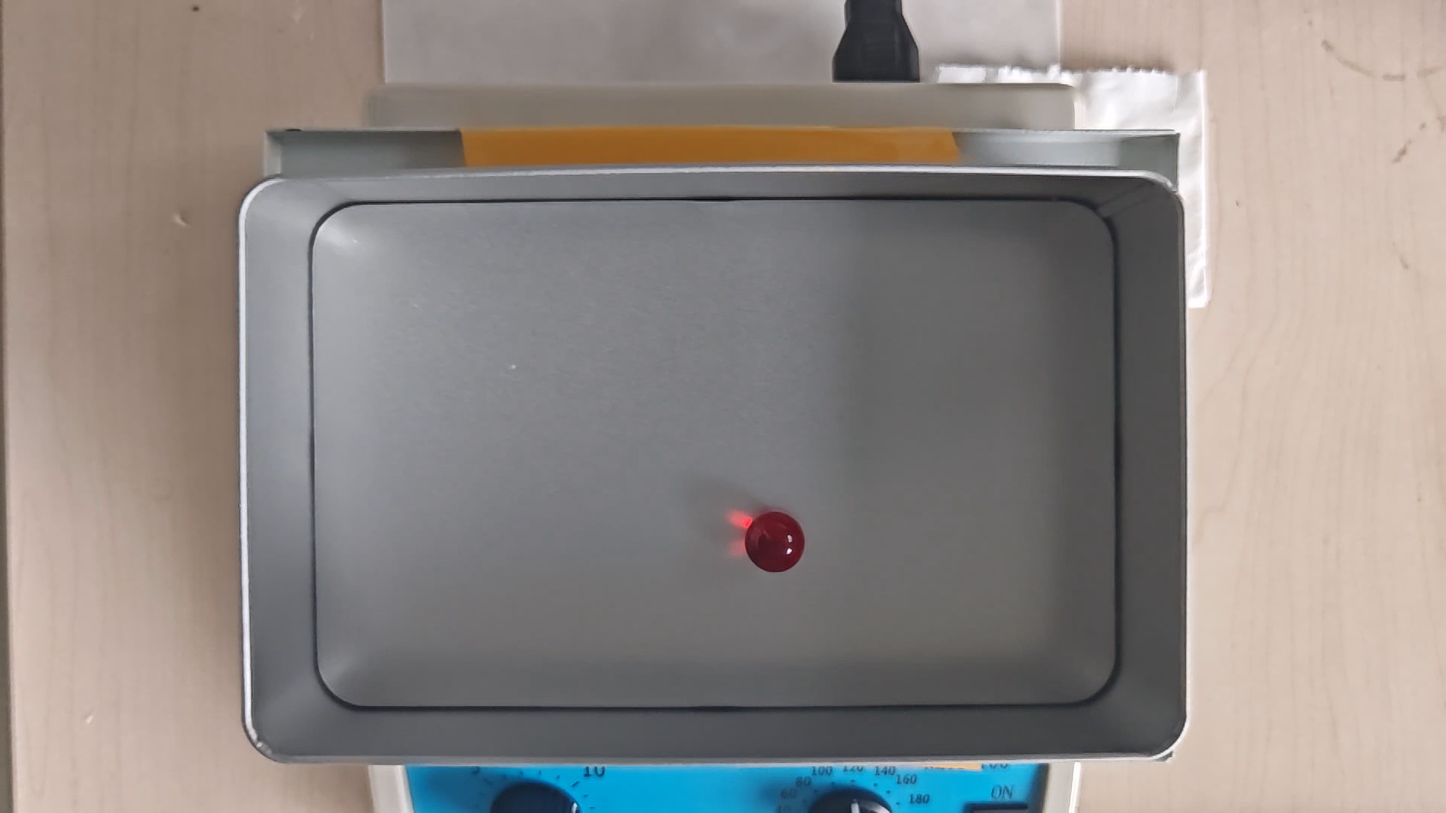ball: (744, 512, 805, 574)
container: (311, 199, 1122, 707)
